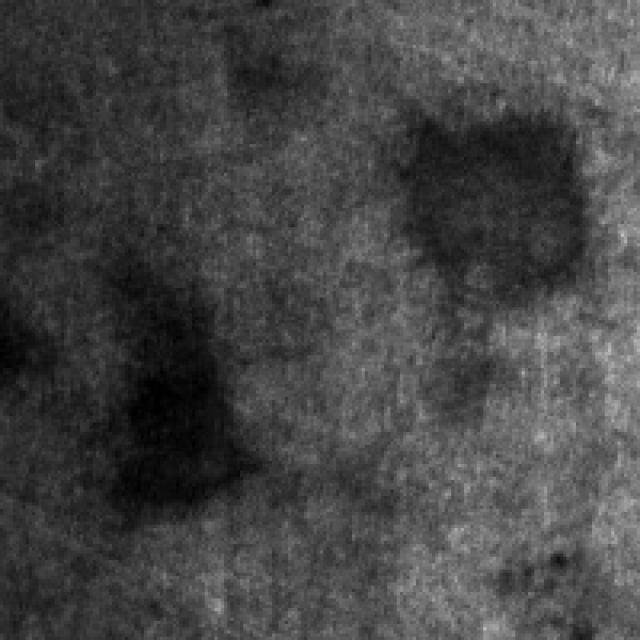patches: (365, 74, 611, 304), (96, 253, 256, 522)
